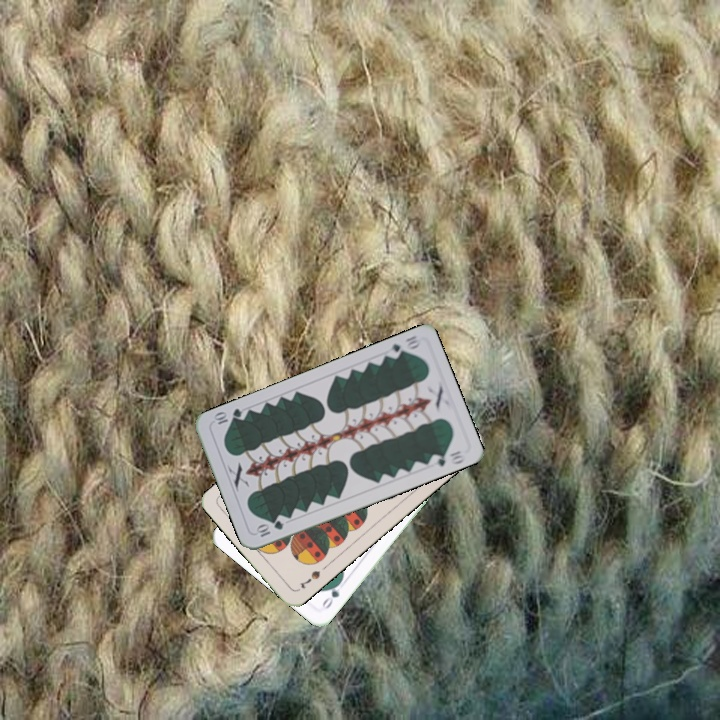G10: (383, 331, 422, 361), (252, 516, 286, 540)
GO: (317, 576, 345, 612)
S7: (296, 566, 323, 591)
